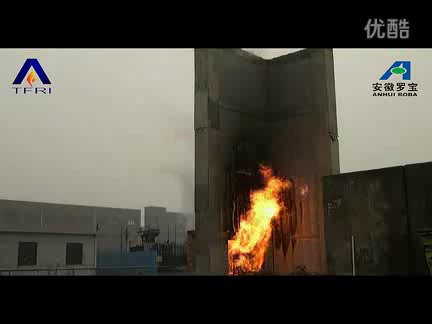fire: (225, 163, 299, 275)
